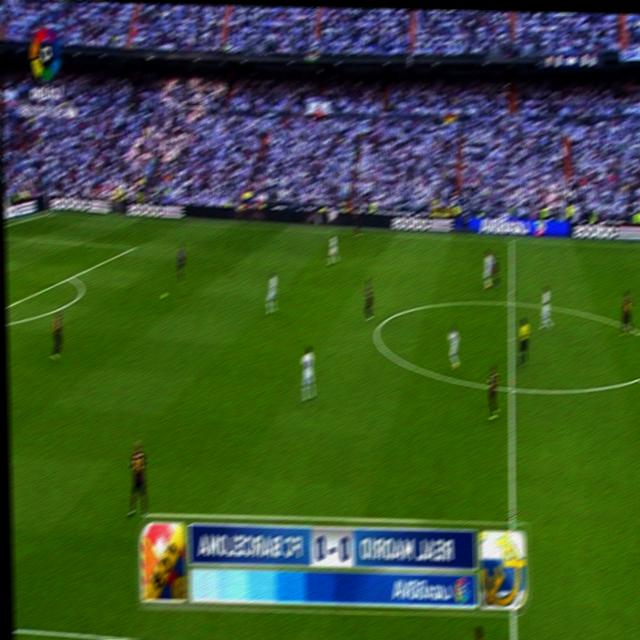bigarea_top_inner: (130, 241, 138, 253)
corner: (44, 207, 54, 219)
halfcircle_bottom: (505, 377, 517, 400)
halfcircle_top: (505, 292, 517, 311)
midline_bottom_intersection: (505, 507, 520, 531)
midline_top_intersection: (506, 233, 516, 247)
